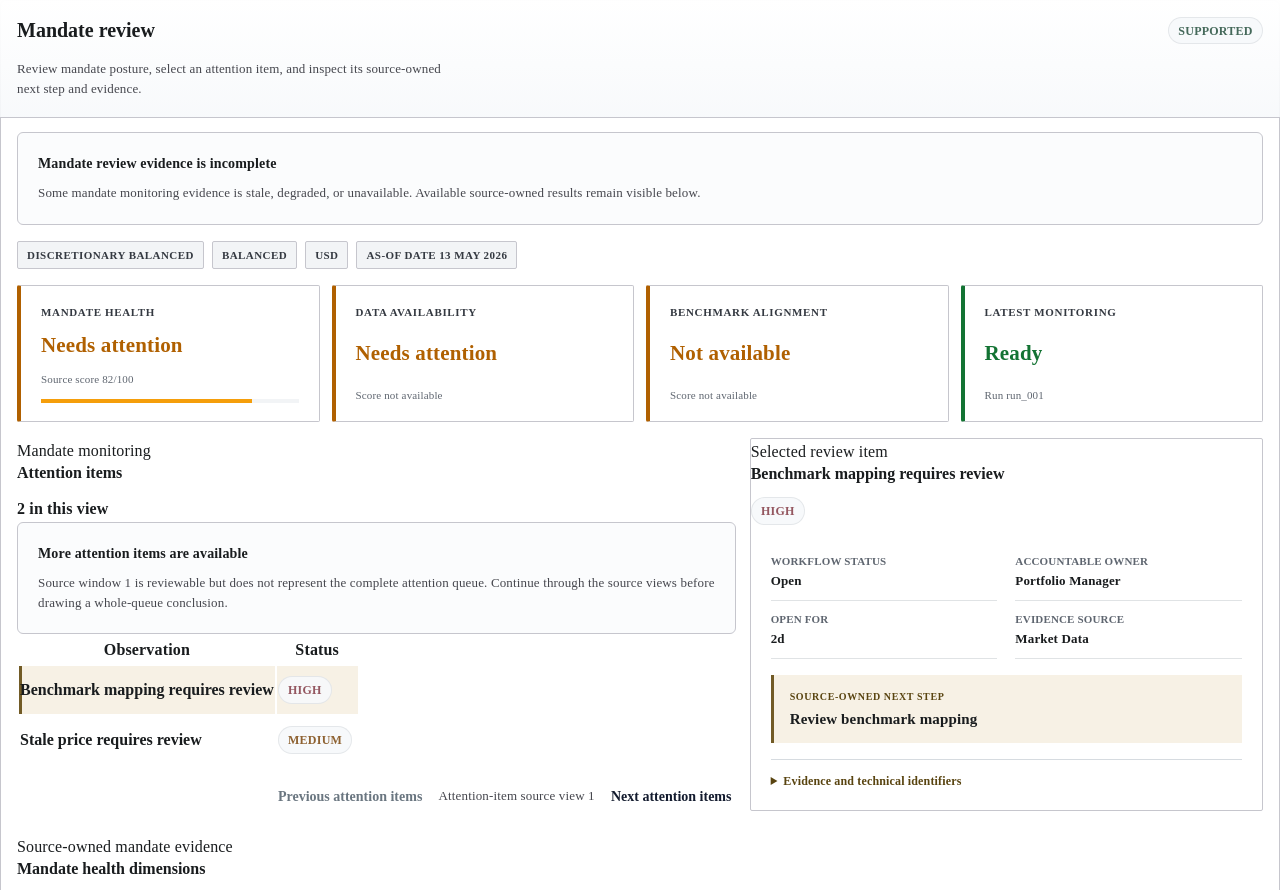
Test case: manage workspace split components › retains the last confirmed exception window when continuation loading fails
The image size is (1280, 890).
Click the button "Next attention items".
click(671, 797)  # box x1=607 y1=776 x2=736 y2=818
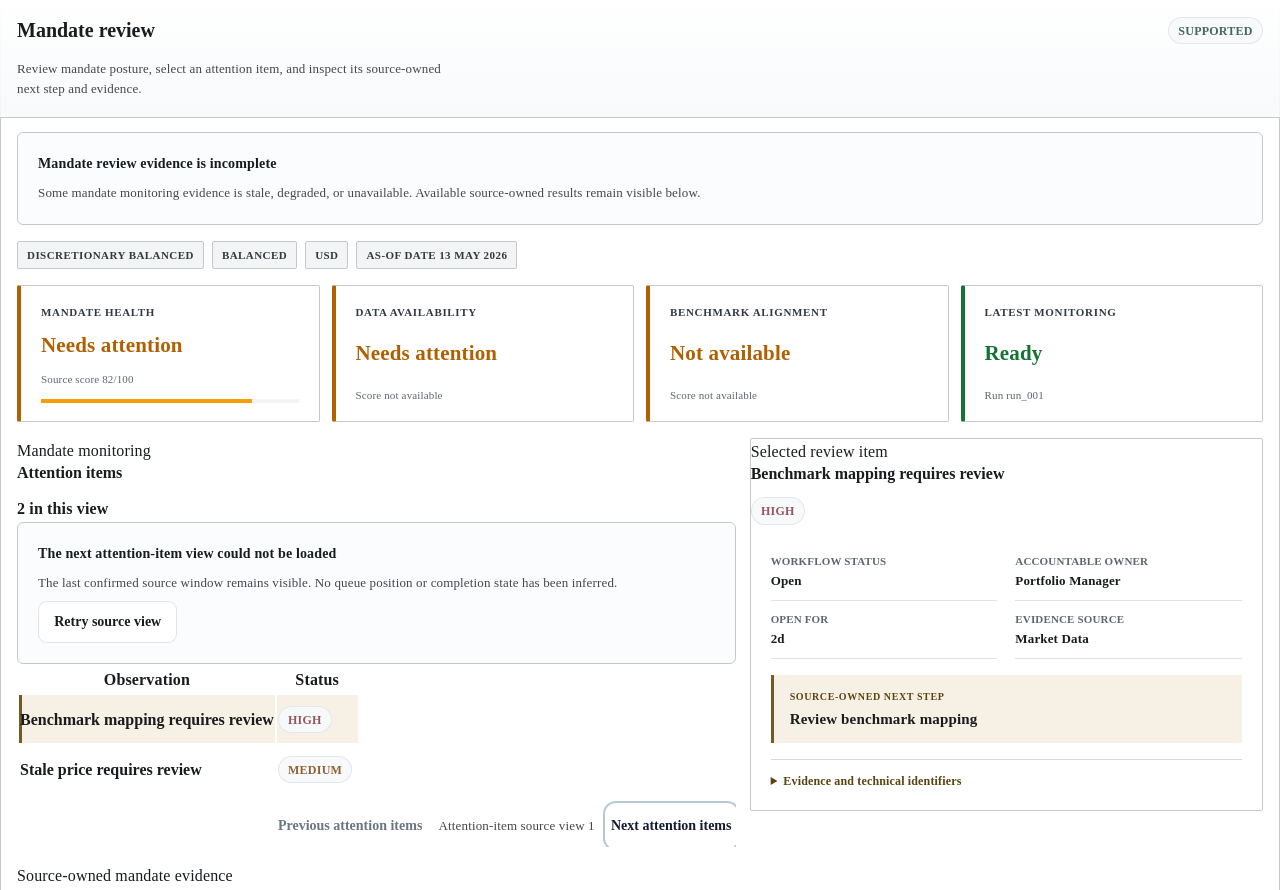
Expected: the heading "The next attention-item view could not be loaded" is shown, x1=38 y1=542 x2=336 y2=565
Expected: the button "Retry source view" is enabled, x1=38 y1=601 x2=177 y2=643
Expected: the heading "More attention items are available" is gone
